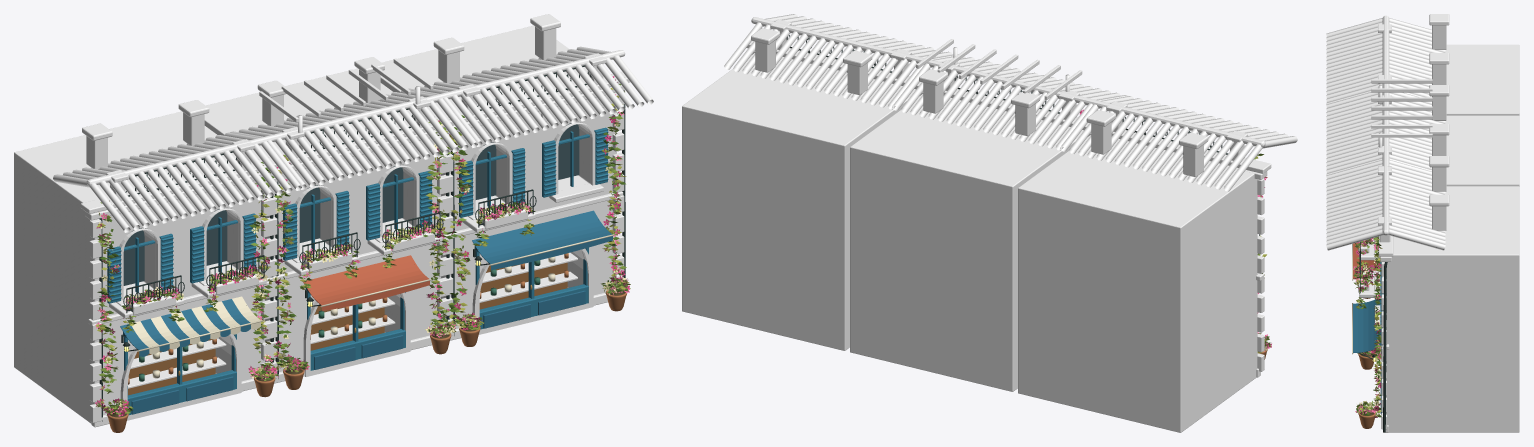
Rendered from MansionRow.glb.
3 views of the same model, side by side, from view 1: azimuth 30°, elevation 25°; view 2: azimuth 150°, elevation 25°; view 3: azimuth 270°, elevation 25° (orthographic). The views are drawn at different scales.
Parts seen in each view (by area): view 1: RK_MansionRow_RK_CreamPlaster, RK_MansionRow_RK_Tile, RK_MansionRow_RK_Stone, RK_MansionRow_RK_CoralPlaster, RK_MansionRow_RK_Blue, RK_MansionRow_RK_CanvasBlue, RK_MansionRow_RK_Wood, RK_MansionRow_RK_Iron, RK_MansionRow_RK_Glass, RK_MansionRow_RK_LeafGold, RK_MansionRow_RK_Leaf, RK_MansionRow_RK_LeafDark (+7 smaller); view 2: RK_MansionRow_RK_CreamPlaster, RK_MansionRow_RK_CoralPlaster, RK_MansionRow_RK_Tile, RK_MansionRow_RK_Stone, RK_MansionRow_RK_Wood; view 3: RK_MansionRow_RK_CreamPlaster, RK_MansionRow_RK_Tile, RK_MansionRow_RK_CoralPlaster, RK_MansionRow_RK_Stone, RK_MansionRow_RK_Wood, RK_MansionRow_RK_CanvasBlue, RK_MansionRow_RK_Leaf, RK_MansionRow_RK_Iron, RK_MansionRow_RK_LeafDark, RK_MansionRow_RK_LeafGold, RK_MansionRow_RK_Terracotta, RK_MansionRow_RK_FlowerPink (+3 smaller).
Part boxes in pixels (x1,y1,x2,y2): RK_MansionRow_RK_CreamPlaster: [14, 25, 616, 423]; RK_MansionRow_RK_Tile: [53, 14, 653, 232]; RK_MansionRow_RK_Stone: [80, 53, 629, 427]; RK_MansionRow_RK_CoralPlaster: [204, 68, 440, 372]; RK_MansionRow_RK_Blue: [107, 127, 608, 415]; RK_MansionRow_RK_CanvasBlue: [120, 210, 612, 414]; RK_MansionRow_RK_Wood: [128, 58, 577, 388]; RK_MansionRow_RK_Iron: [99, 65, 625, 421]; RK_MansionRow_RK_Glass: [123, 123, 579, 285]; RK_MansionRow_RK_LeafGold: [96, 88, 630, 414]; RK_MansionRow_RK_Leaf: [96, 112, 630, 414]; RK_MansionRow_RK_LeafDark: [97, 84, 628, 414]; RK_MansionRow_RK_CreamPlaster: [682, 40, 1257, 432]; RK_MansionRow_RK_CoralPlaster: [850, 94, 1082, 391]; RK_MansionRow_RK_Tile: [724, 14, 1297, 191]; RK_MansionRow_RK_Stone: [746, 19, 1271, 377]; RK_MansionRow_RK_Wood: [916, 39, 1082, 99]; RK_MansionRow_RK_CreamPlaster: [1386, 25, 1519, 432]; RK_MansionRow_RK_Tile: [1326, 14, 1449, 250]; RK_MansionRow_RK_CoralPlaster: [1445, 115, 1519, 186]; RK_MansionRow_RK_Stone: [1358, 24, 1393, 432]; RK_MansionRow_RK_Wood: [1371, 79, 1432, 147]; RK_MansionRow_RK_CanvasBlue: [1353, 299, 1382, 413]; RK_MansionRow_RK_Leaf: [1354, 236, 1381, 417]; RK_MansionRow_RK_Iron: [1358, 241, 1387, 432]; RK_MansionRow_RK_LeafDark: [1353, 238, 1381, 417]; RK_MansionRow_RK_LeafGold: [1353, 240, 1382, 416]; RK_MansionRow_RK_Terracotta: [1358, 298, 1375, 428]; RK_MansionRow_RK_FlowerPink: [1354, 238, 1381, 417].
Bounding box in the file's own units: 19.36 × 9.12 × 7.23.
